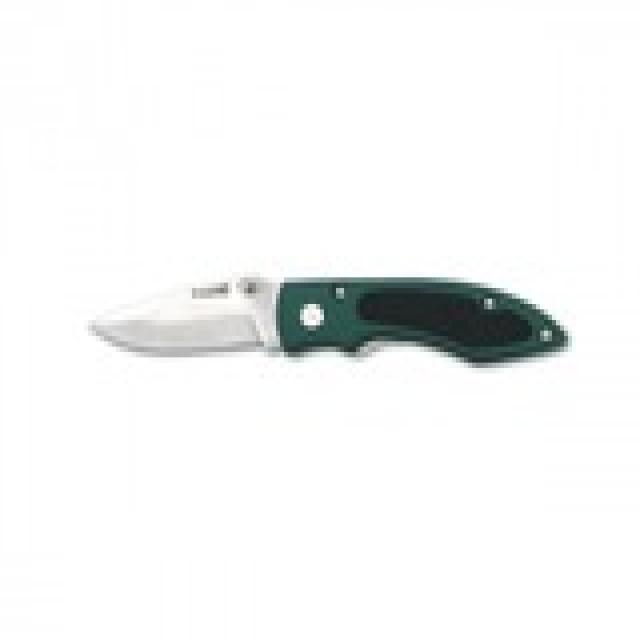Knife: (61, 254, 584, 387)
